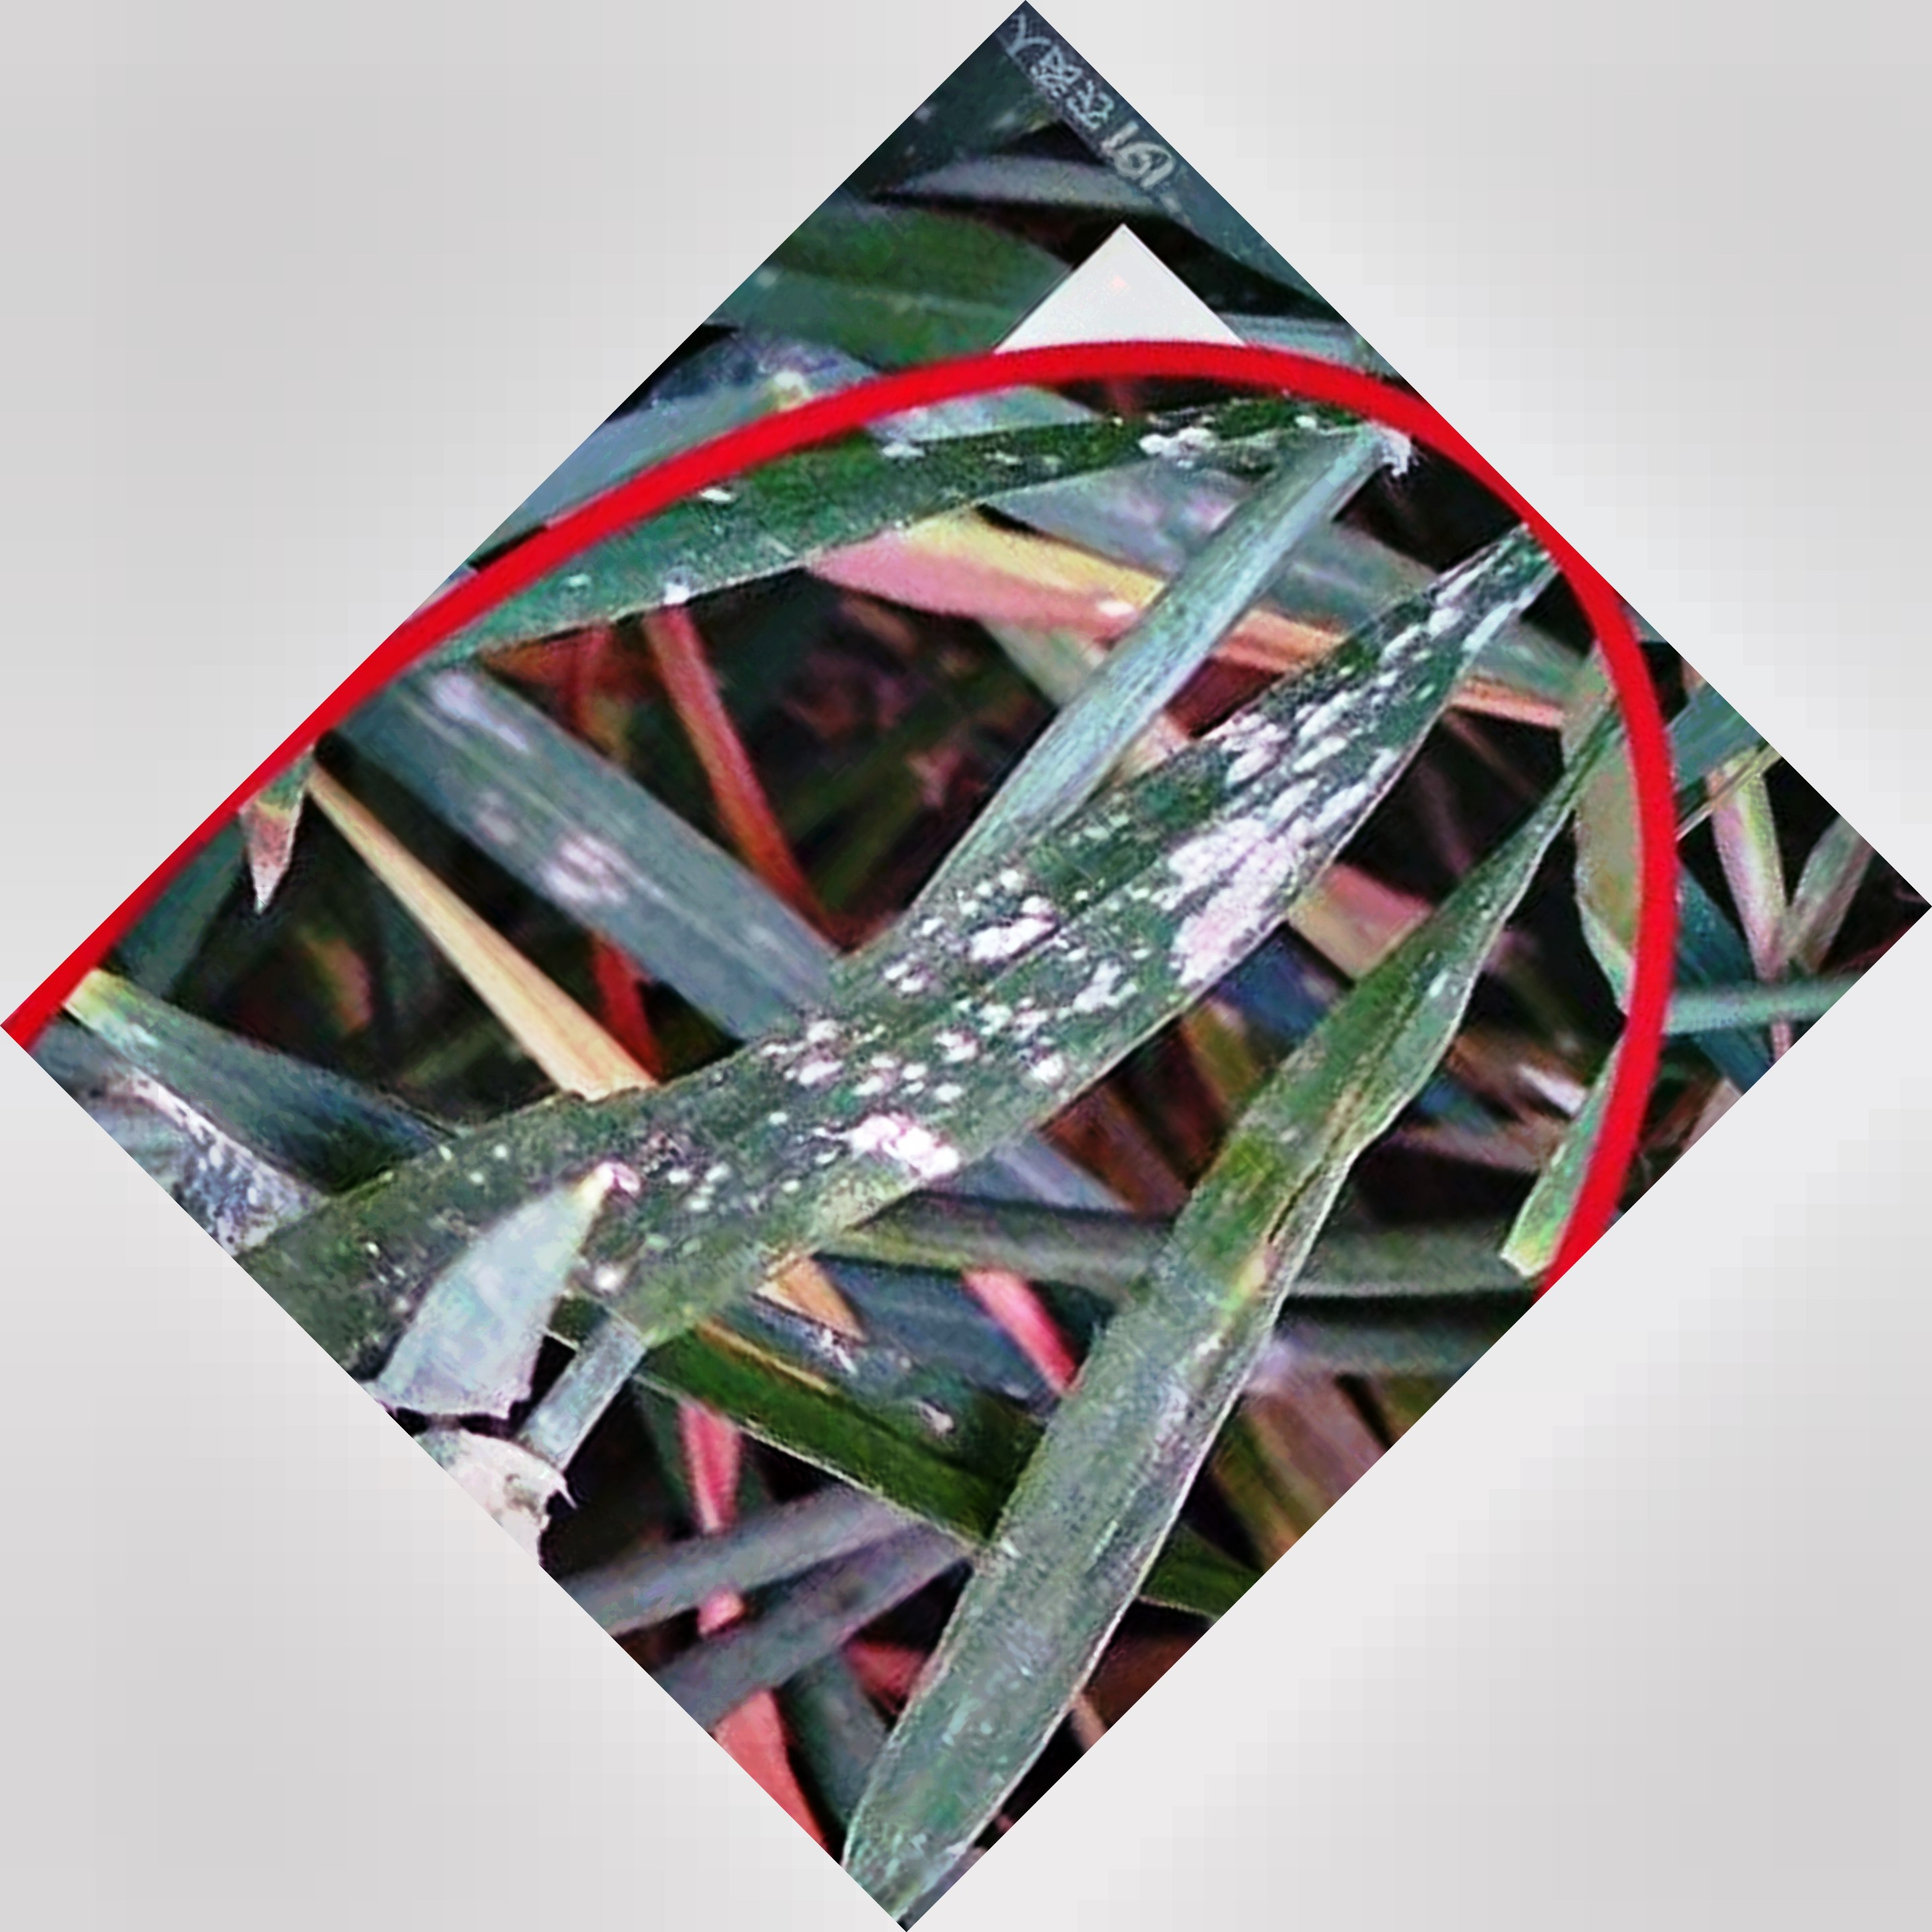Powdery Mildew: (655, 617, 1433, 1249)
